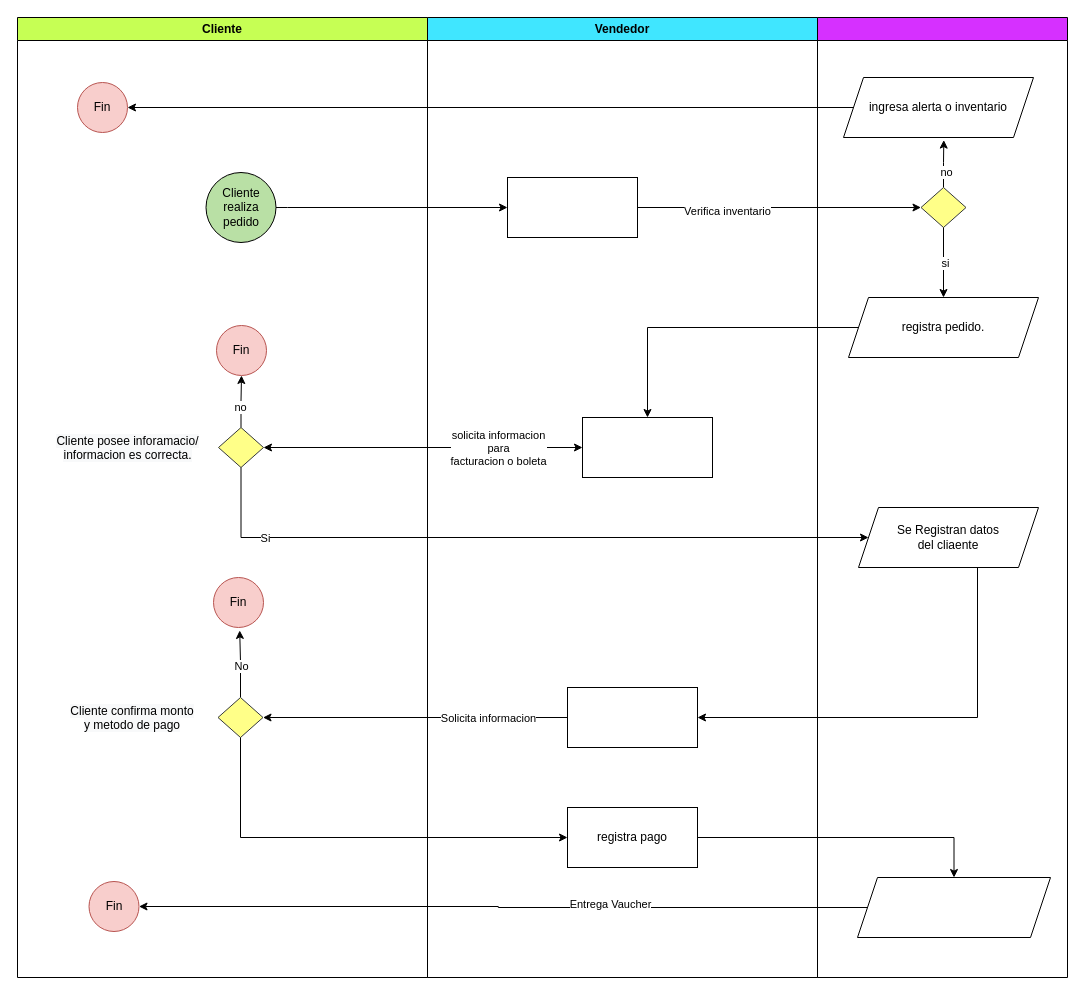
Some shapes in this 1085 by 995 pixel diagram are drawn without their labels. Here are the shapes that lost their labels. From the top down, the box of each, then its label:
(506, 176, 638, 238): Resepciona pedido
(582, 416, 712, 478): Boleta/Factura
(816, 16, 1068, 978): Sistema
(566, 686, 698, 748): Modalidad de pago
(856, 876, 1050, 938): Genera voucher
